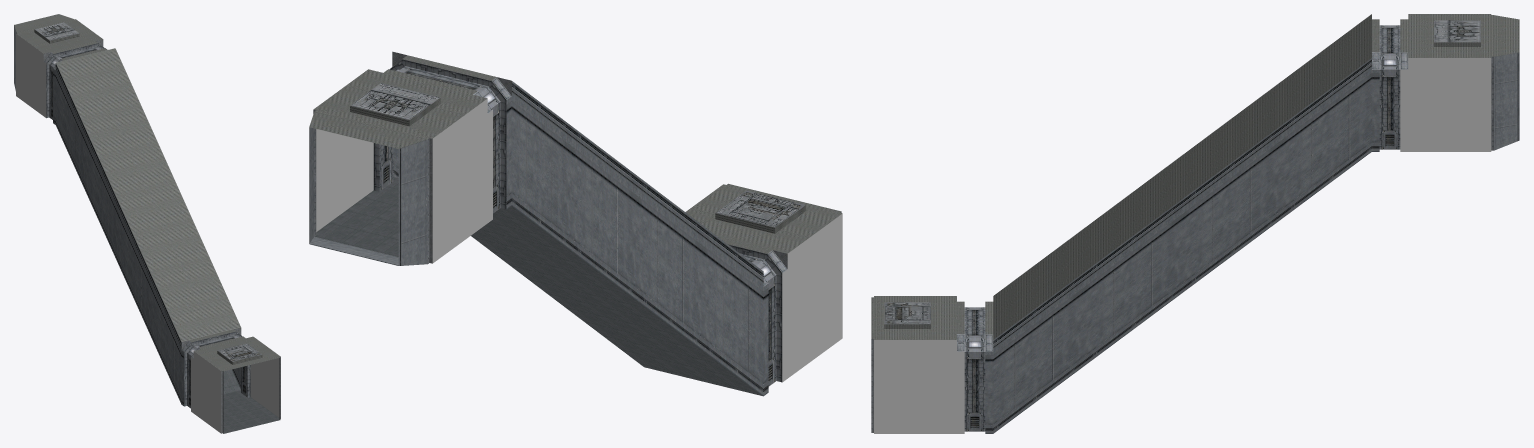
The model's file is poi_all_impl_bunker_research_facility_s01_r4_hall_mesh.fbx.
The picture shows the model from 3 angles, left to right: view 1: azimuth 30°, elevation 25°; view 2: azimuth 150°, elevation 25°; view 3: azimuth 270°, elevation 25°; orthographic projection. The views are drawn at different scales.
Visible parts, largest first — view 1: mesh_node; view 2: mesh_node; view 3: mesh_node.
Part boxes in pixels (box(x1,y1,x2,y2)): mesh_node: box(14, 14, 280, 433); mesh_node: box(309, 51, 842, 396); mesh_node: box(871, 14, 1519, 433).
Bounding box in the file's own units: 4 × 16.2 × 25.
